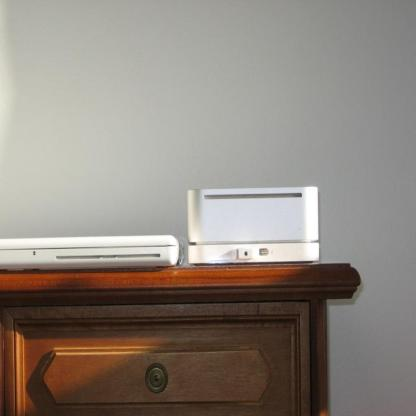board: (0, 236, 184, 268)
